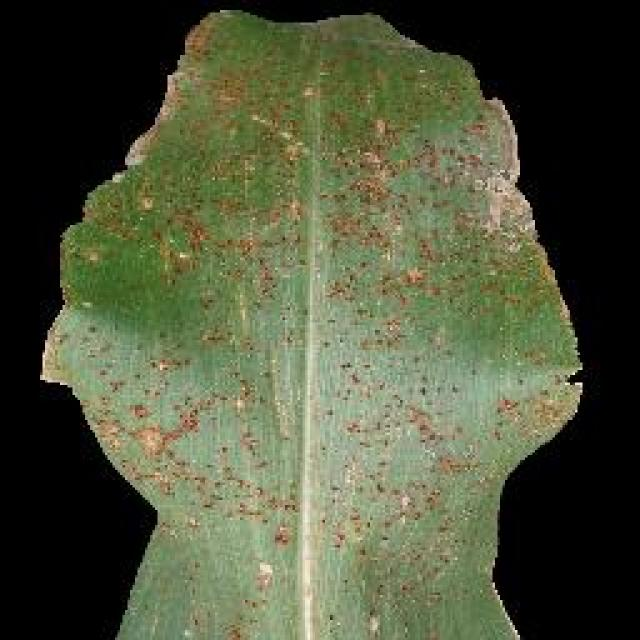Corn___Common_rust: (100, 0, 516, 640)
